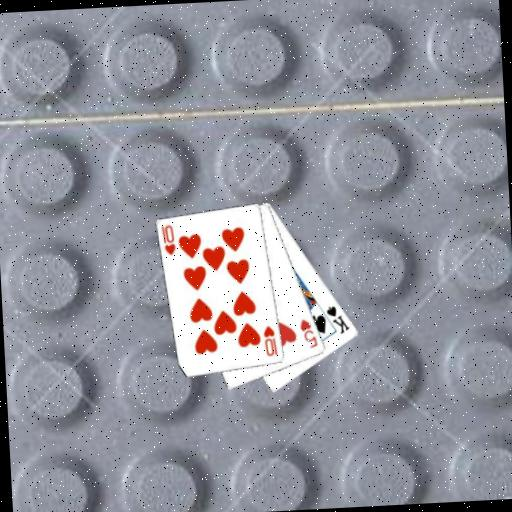10H: (158, 222, 178, 258), (260, 323, 279, 359)
5H: (297, 316, 319, 351)
KS: (323, 302, 352, 337)
